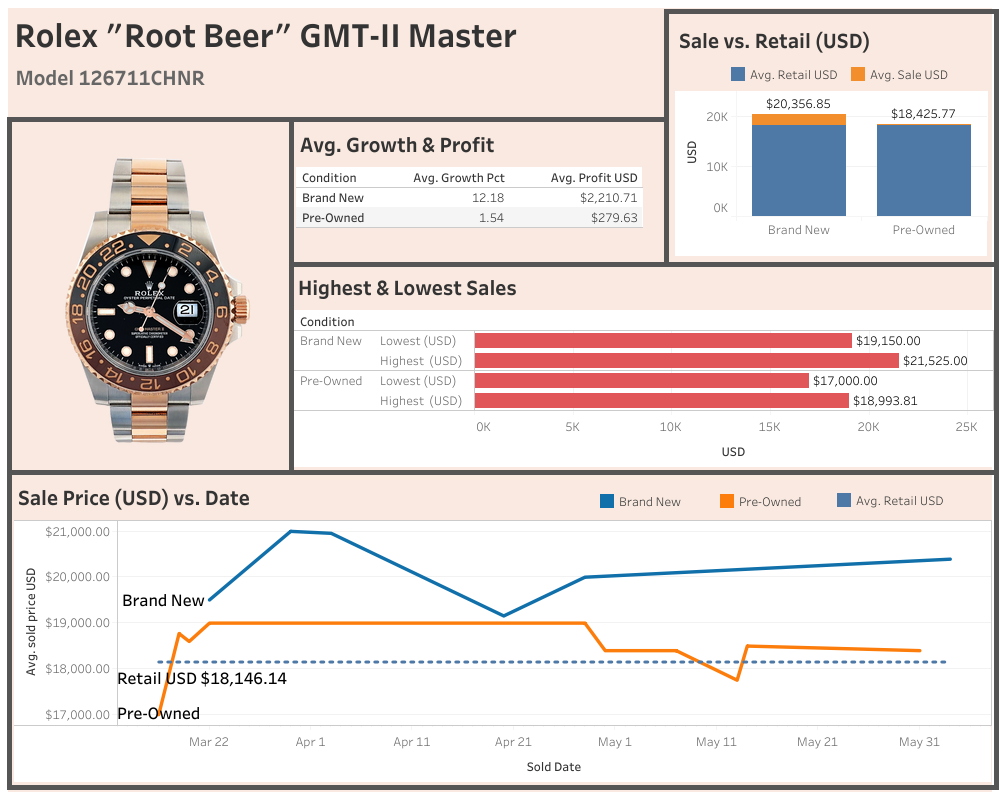

The page's visual inventory and layout, read from the dashboard file:
{"tool":"tableau","page":{"name":"Rolex \"Root Beer\" GMT-II Master","canvas":[1000,800],"ordinal":0},"visuals":[{"type":"title","box":[8,8,984,52]},{"type":"worksheet","title":"Sale vs. Retail (USD)","mark":"Automatic","cols":["condition"],"box":[664,9,335,258]},{"type":"text","box":[13,62,196,30]},{"type":"image","param":"Image/126711CHNR_312103456Face_CLEAN_3.png","box":[7,117,287,358]},{"type":"worksheet","title":"Avg. Growth & Profit","mark":"Automatic","rows":["condition"],"box":[289,117,380,150]},{"type":"worksheet","title":"Highest & Lowest Sales","mark":"Automatic","rows":["condition"],"box":[289,262,713,213]},{"type":"worksheet","title":"Sale Price (USD) vs. Date","mark":"Line","rows":["sold_price_USD","retail_USD"],"cols":["sold_date"],"box":[7,470,992,320]},{"type":"legend","title":"Sale Price (USD) vs. Date","param":"[federated.0q3ct8i1t9tgai13ozf3e1nu7xy9].[:Measure Names]","box":[834,490,141,39]},{"type":"legend","title":"Sale Price (USD) vs. Date","param":"[federated.0q3ct8i1t9tgai13ozf3e1nu7xy9].[none:condition:nk]","box":[597,491,218,47]},{"type":"text","box":[867,528,116,18]}]}

Visuals, with their boxes in screenshot pixels (x1, y1, x2, y2), scaled from the page's 1000x800 canvas onto the 999x799 screenshot:
title: Rect(8, 8, 991, 60)
"Sale vs. Retail (USD)" worksheet: Rect(663, 9, 998, 267)
text: Rect(13, 62, 209, 92)
image: Rect(7, 117, 294, 474)
"Avg. Growth & Profit" worksheet: Rect(289, 117, 668, 267)
"Highest & Lowest Sales" worksheet: Rect(289, 262, 998, 474)
"Sale Price (USD) vs. Date" worksheet (Line marks): Rect(7, 469, 998, 789)
"Sale Price (USD) vs. Date" legend: Rect(833, 489, 974, 528)
"Sale Price (USD) vs. Date" legend: Rect(596, 490, 814, 537)
text: Rect(866, 527, 982, 545)
